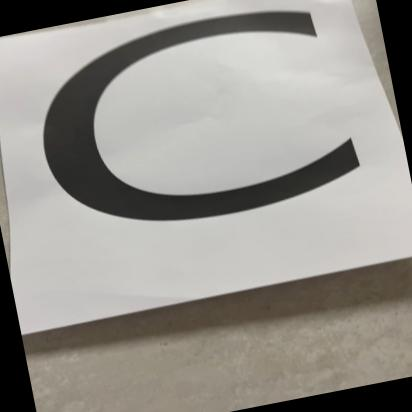seat: (0, 0, 412, 324)
